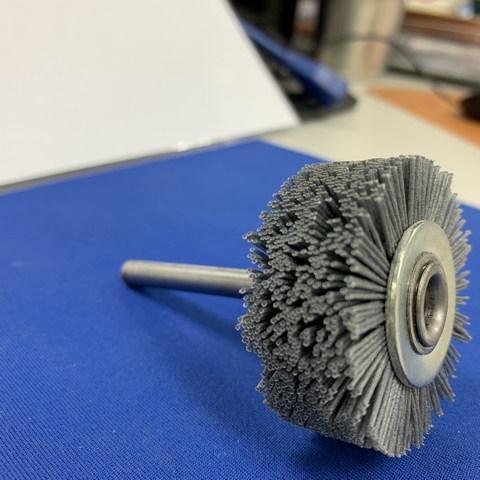Wheel Brush: (121, 149, 460, 467), (113, 159, 461, 446), (169, 144, 444, 448)
